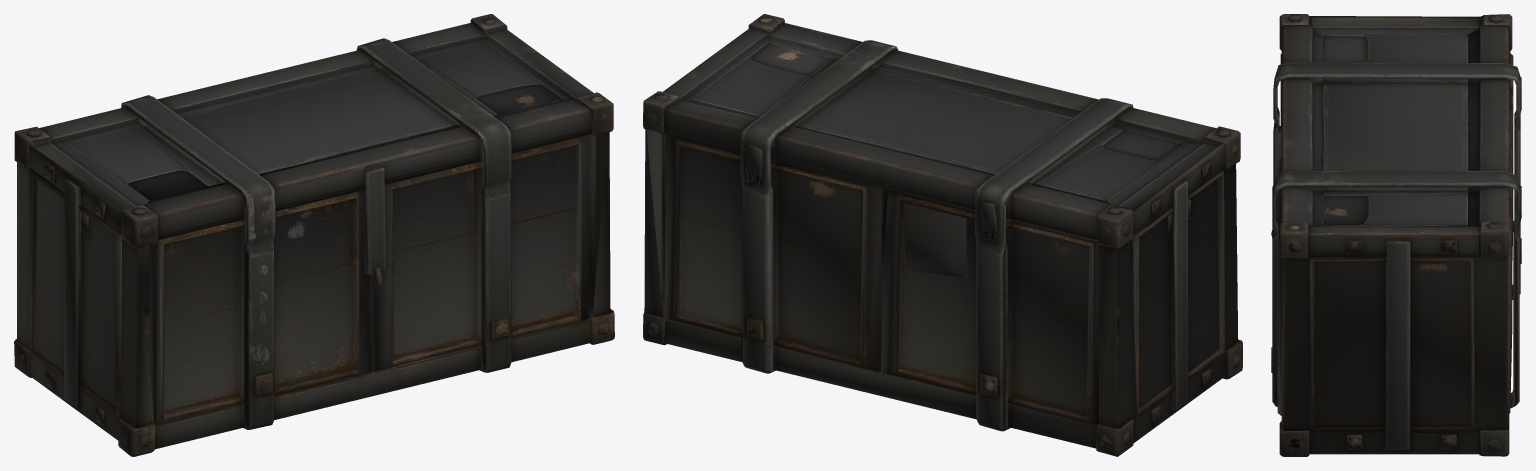
File: 019e04cc-eef6-71f8-84ae-49a952474e80.glb
3 views of the same model, side by side, from view 1: azimuth 30°, elevation 25°; view 2: azimuth 150°, elevation 25°; view 3: azimuth 270°, elevation 25° (orthographic). The views are drawn at different scales.
Visible parts, largest first — view 1: tripo_node_e9f194c9-ee65-49c0-8a57-234cc7bdbf23; view 2: tripo_node_e9f194c9-ee65-49c0-8a57-234cc7bdbf23; view 3: tripo_node_e9f194c9-ee65-49c0-8a57-234cc7bdbf23.
Part boxes in pixels (<box>): tripo_node_e9f194c9-ee65-49c0-8a57-234cc7bdbf23: <box>14,14,614,456</box>; tripo_node_e9f194c9-ee65-49c0-8a57-234cc7bdbf23: <box>643,14,1242,456</box>; tripo_node_e9f194c9-ee65-49c0-8a57-234cc7bdbf23: <box>1271,14,1521,456</box>.
Bounding box in the file's own units: 0.998 × 0.4746 × 0.4746.
1 material, 1 textured.
